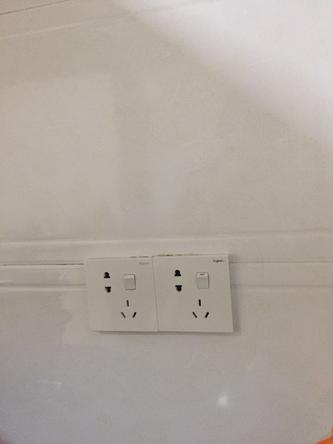switch: (117, 276, 135, 294), (195, 272, 212, 289)
